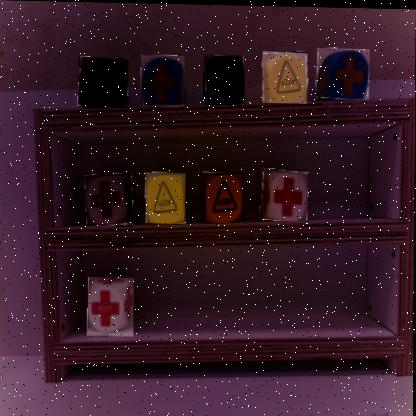CubeBlue: (317, 48, 372, 100), (79, 57, 131, 109), (142, 55, 187, 108), (205, 55, 245, 106)
CubeRed: (89, 278, 136, 339), (262, 169, 311, 222), (87, 174, 135, 228)
CubeYellow: (263, 51, 310, 104), (204, 172, 247, 223), (147, 173, 188, 225)
